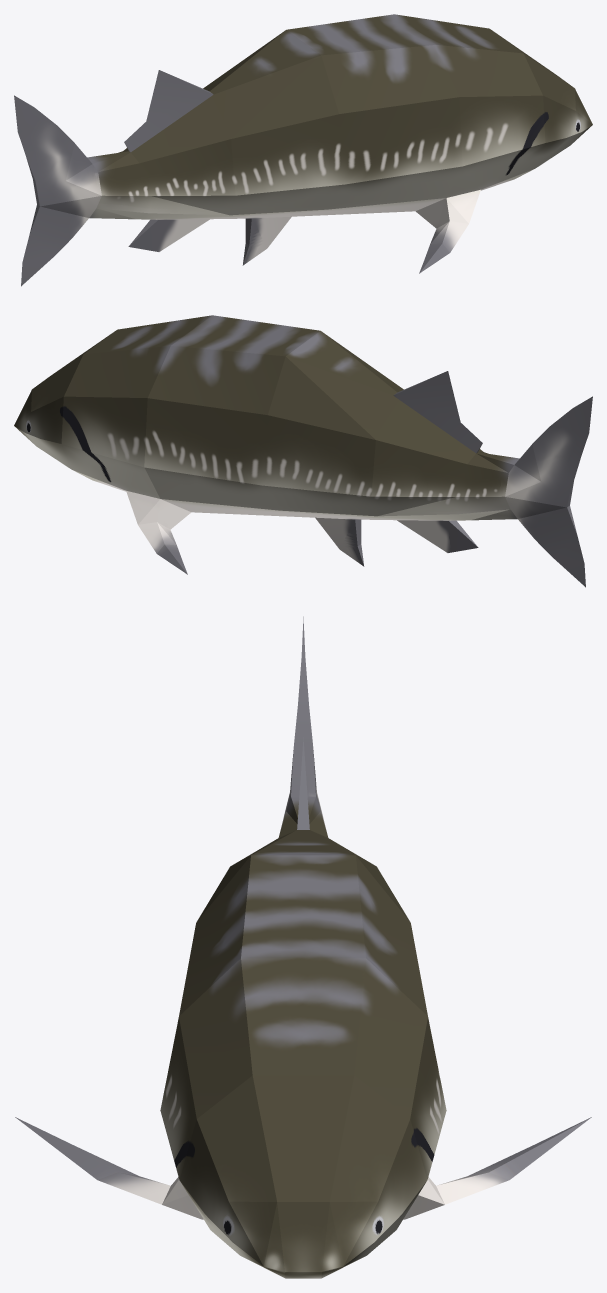
File: FishTuah.fbx
3 renders of one model, top to bottom at view 1: azimuth 30°, elevation 25°; view 2: azimuth 150°, elevation 25°; view 3: azimuth 270°, elevation 25°, orthographic. The views are drawn at different scales.
Visible parts, largest first — view 1: Circle; view 2: Circle; view 3: Circle.
Boxes of the visible parts, x1=… form: Circle: x1=14, y1=14, x2=592, y2=286; Circle: x1=14, y1=315, x2=592, y2=587; Circle: x1=15, y1=616, x2=591, y2=1278.
Size of the model in its own units: 269 by 458 by 174.
Materials: 1 (1 with a texture image).
